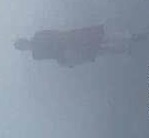person: (12, 24, 137, 65)
